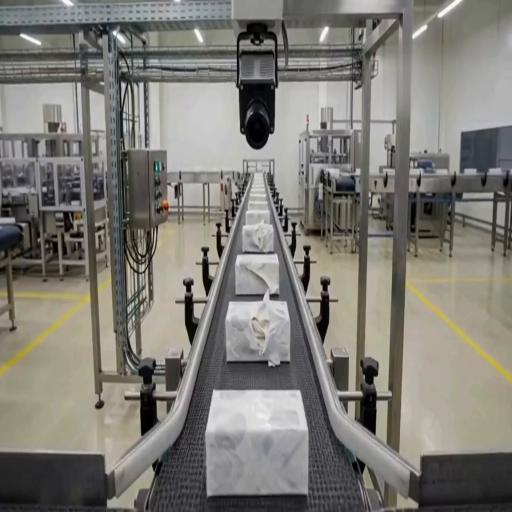defective: (224, 298, 293, 363), (234, 252, 282, 297), (242, 222, 275, 252)
good: (204, 389, 312, 503), (245, 209, 272, 224), (248, 199, 268, 211), (250, 191, 267, 198), (251, 187, 266, 191), (252, 183, 266, 187)
